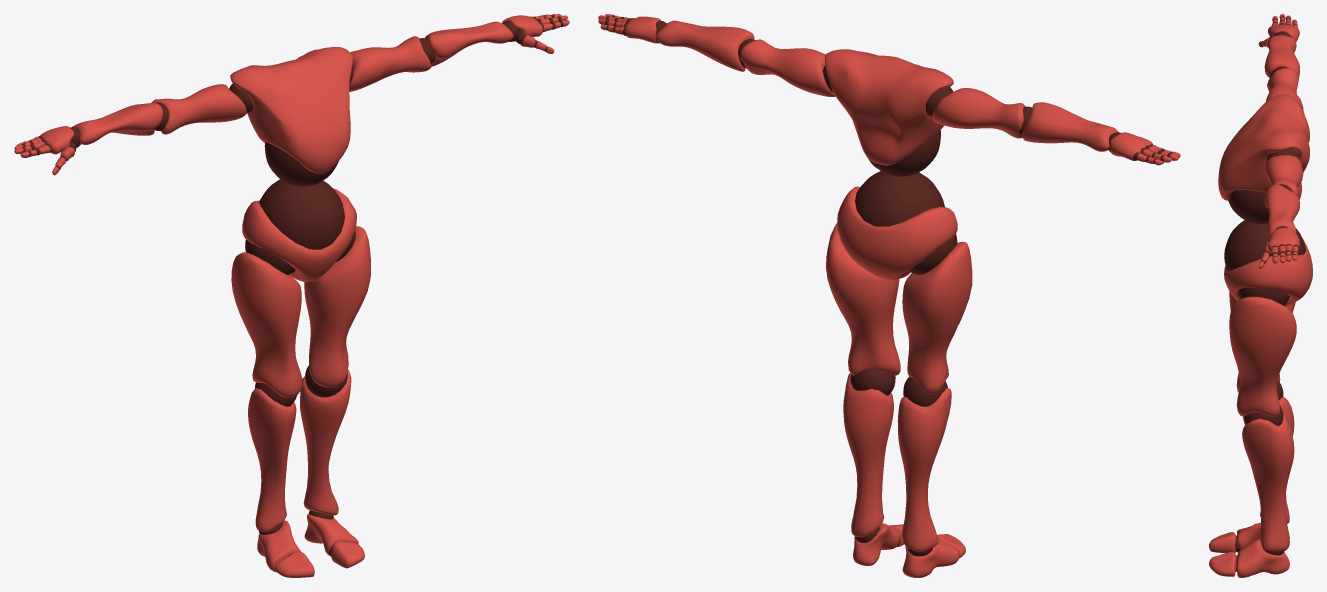
Rendered from Xbot_ww.FBX.
3 views of the same model, side by side, from view 1: azimuth 30°, elevation 25°; view 2: azimuth 150°, elevation 25°; view 3: azimuth 270°, elevation 25° (orthographic). The views are drawn at different scales.
Visible parts, largest first — view 1: Xbot_w; view 2: Xbot_w; view 3: Xbot_w.
Boxes of the visible parts, x1,y1,x2,y2 form: Xbot_w: (14,14,569,577); Xbot_w: (598,14,1180,577); Xbot_w: (1209,14,1312,577).
Bounding box in the file's own units: 181 × 32.07 × 152.
